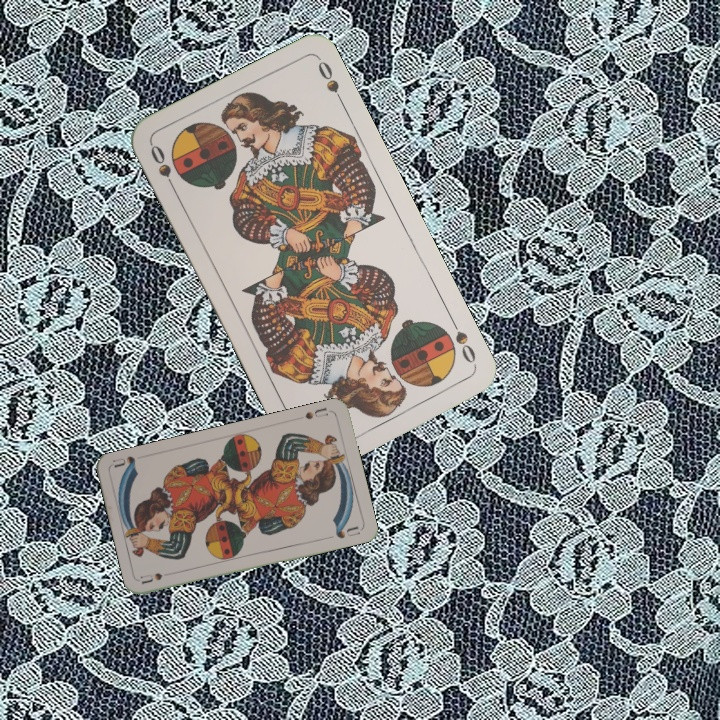SO: (146, 140, 180, 196), (446, 314, 480, 369)
SU: (137, 567, 178, 587), (301, 403, 330, 422)
